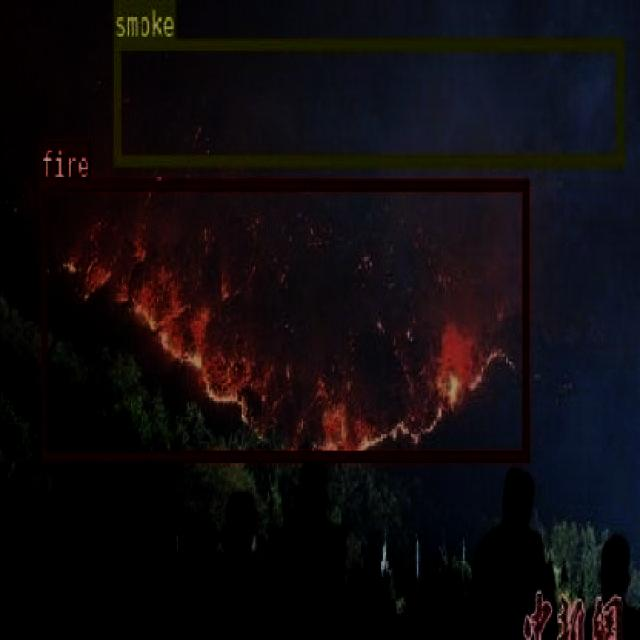fire: (39, 178, 527, 458)
smoke: (113, 37, 622, 165)
